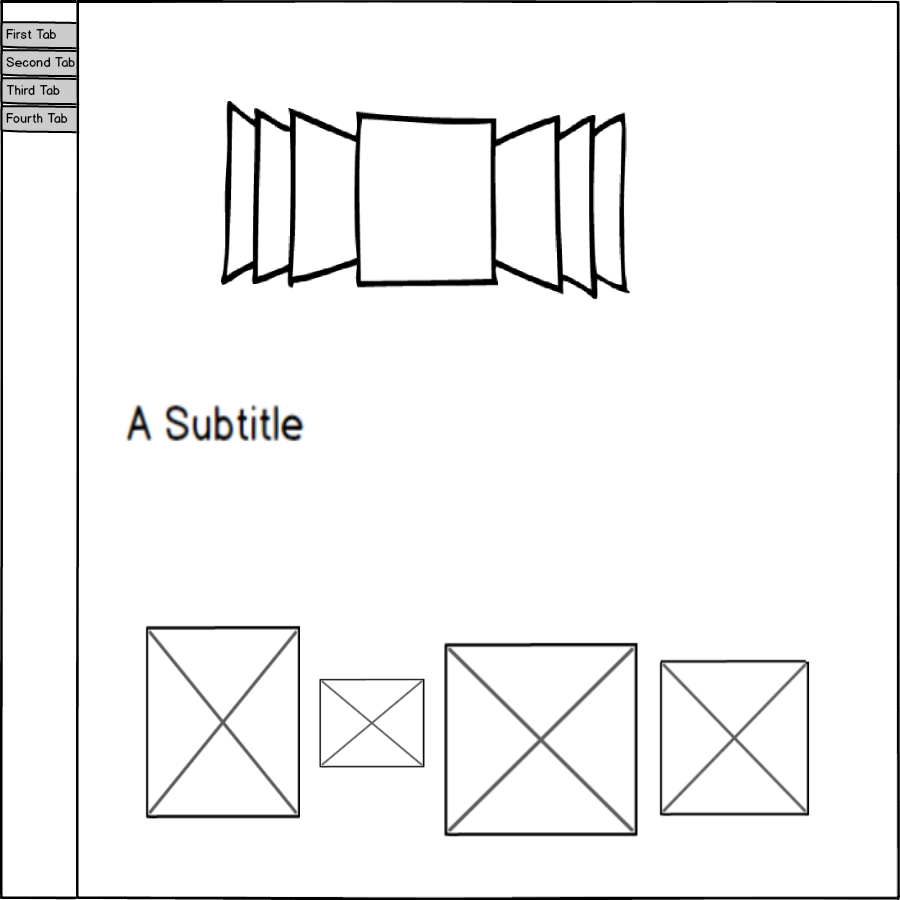h1: (126, 384, 324, 463)
image: (439, 637, 642, 841), (139, 623, 307, 821), (655, 655, 819, 821), (315, 677, 430, 773)
slideshow: (211, 97, 645, 310), (1, 18, 89, 138)
